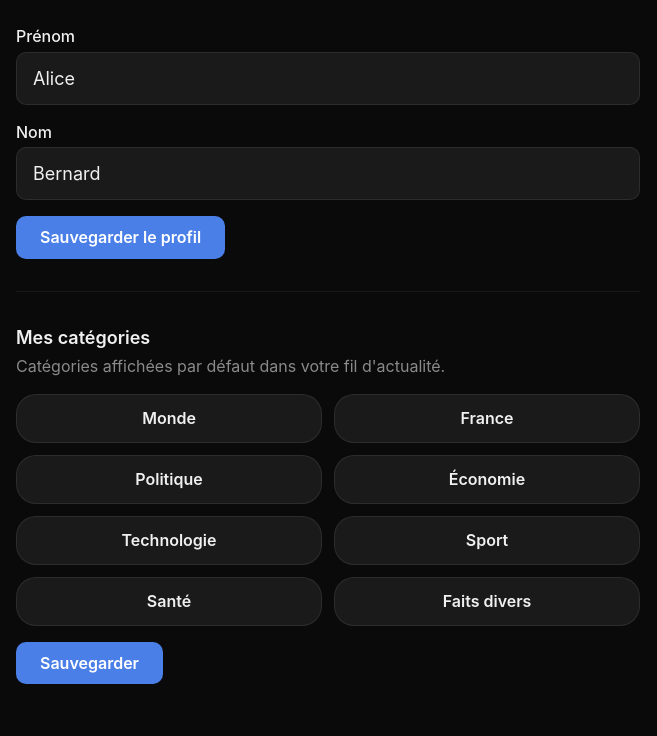
Test: SettingsPage › section catégories › shows error when save fails
(page scrolled)
Click the button "Sauvegarder": [89, 663] box [16, 642, 163, 684]
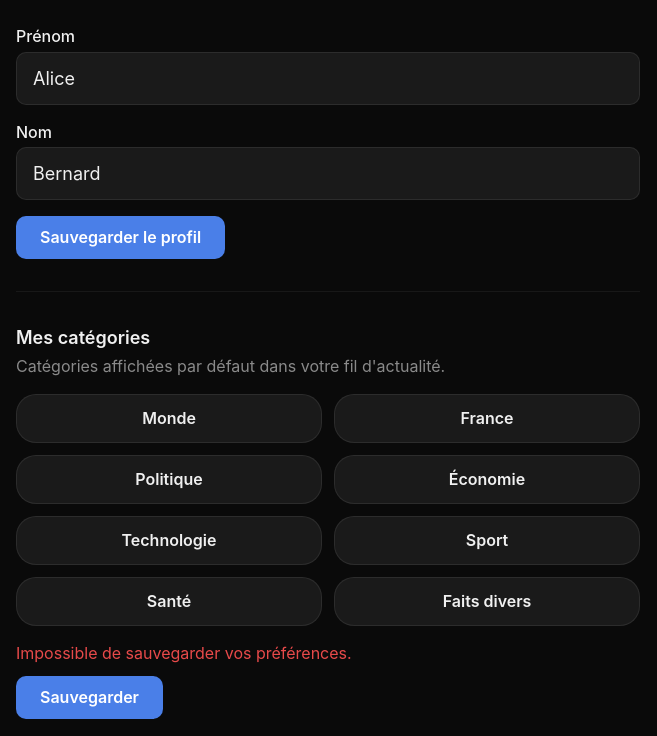
Expected: the text "Impossible de sauvegarder vos préférences." is shown, [16, 642, 352, 662]
